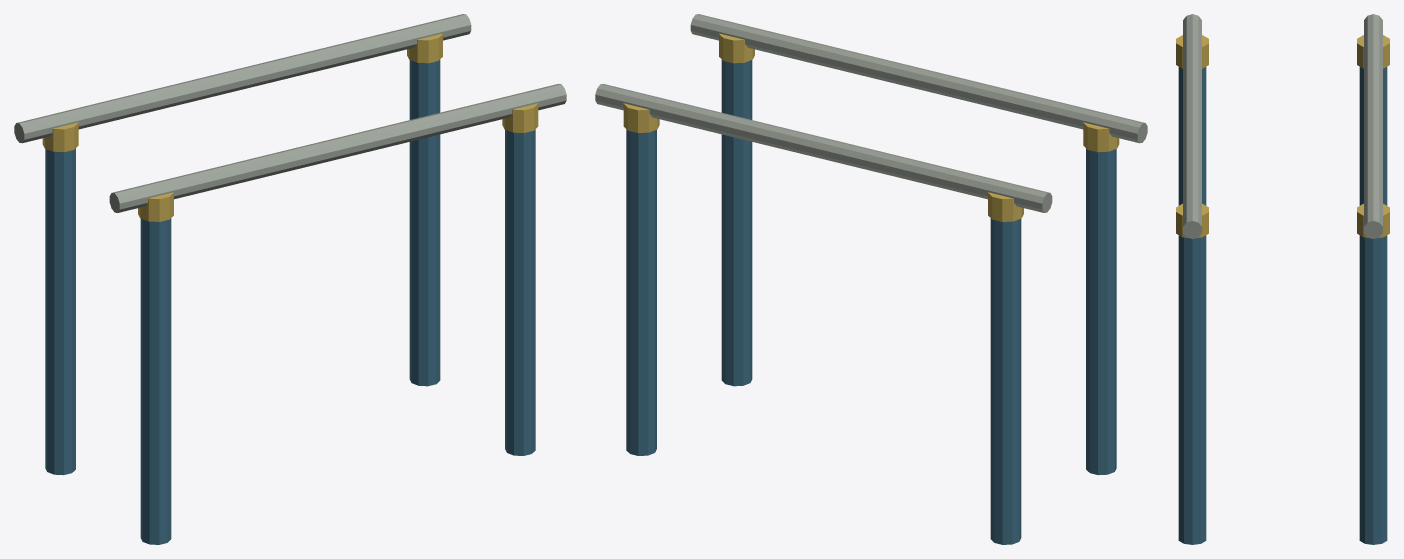
The model's file is SM_QD_StreetPark_ParallelBars.fbx.
3 views of the same model, side by side, from view 1: azimuth 30°, elevation 25°; view 2: azimuth 150°, elevation 25°; view 3: azimuth 270°, elevation 25° (orthographic). The views are drawn at different scales.
Visible parts, largest first — view 1: SM_QD_StreetPark_ParallelBars; view 2: SM_QD_StreetPark_ParallelBars; view 3: SM_QD_StreetPark_ParallelBars.
Boxes of the visible parts, bbox=[...] form: SM_QD_StreetPark_ParallelBars: bbox=[14, 14, 566, 544]; SM_QD_StreetPark_ParallelBars: bbox=[595, 14, 1147, 544]; SM_QD_StreetPark_ParallelBars: bbox=[1176, 14, 1389, 544].
Size of the model in its own units: 1.84 by 0.8036 by 1.4.
